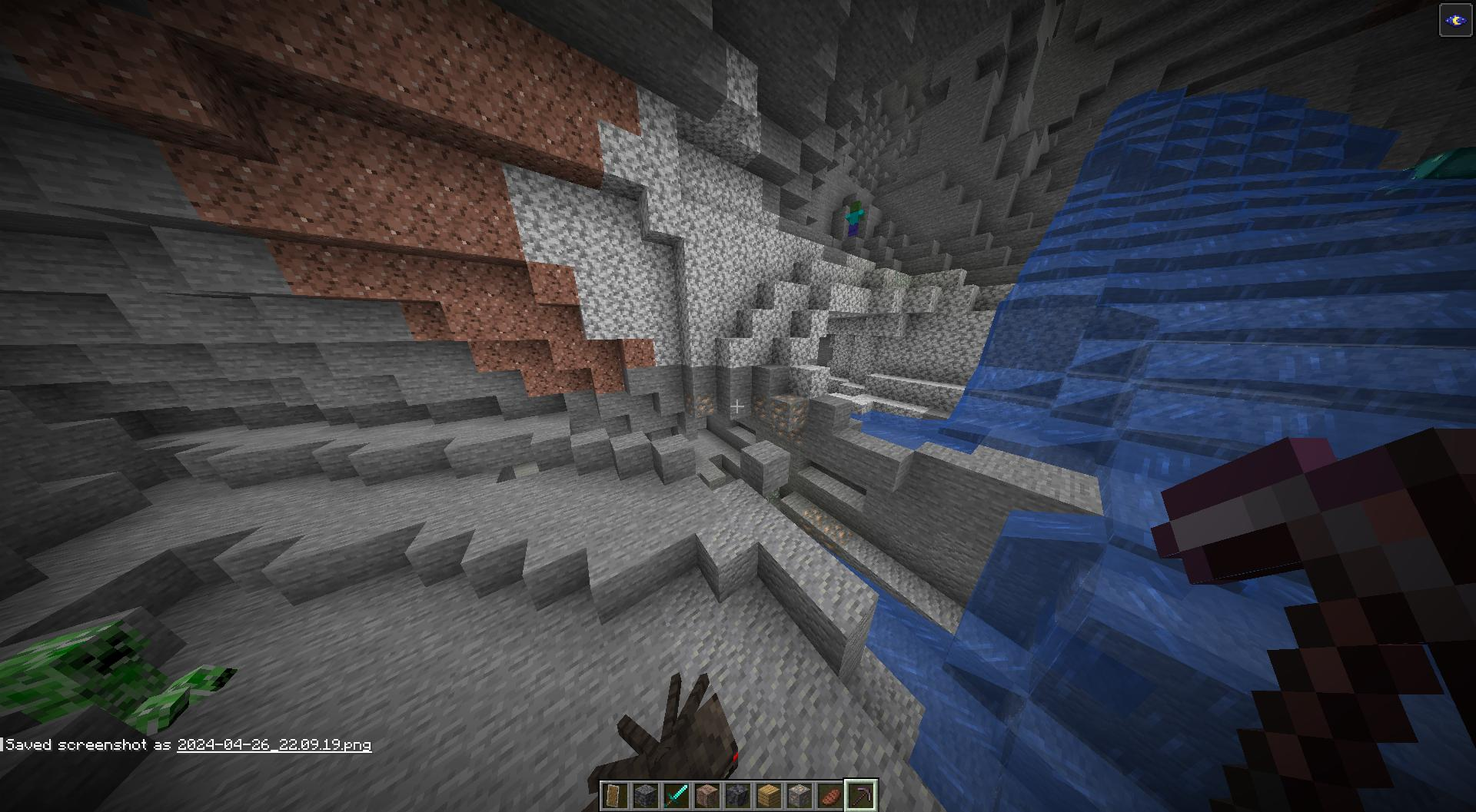iron ore: (769, 392, 805, 430), (823, 522, 851, 554), (748, 388, 773, 423), (682, 393, 716, 415), (796, 504, 823, 530)
